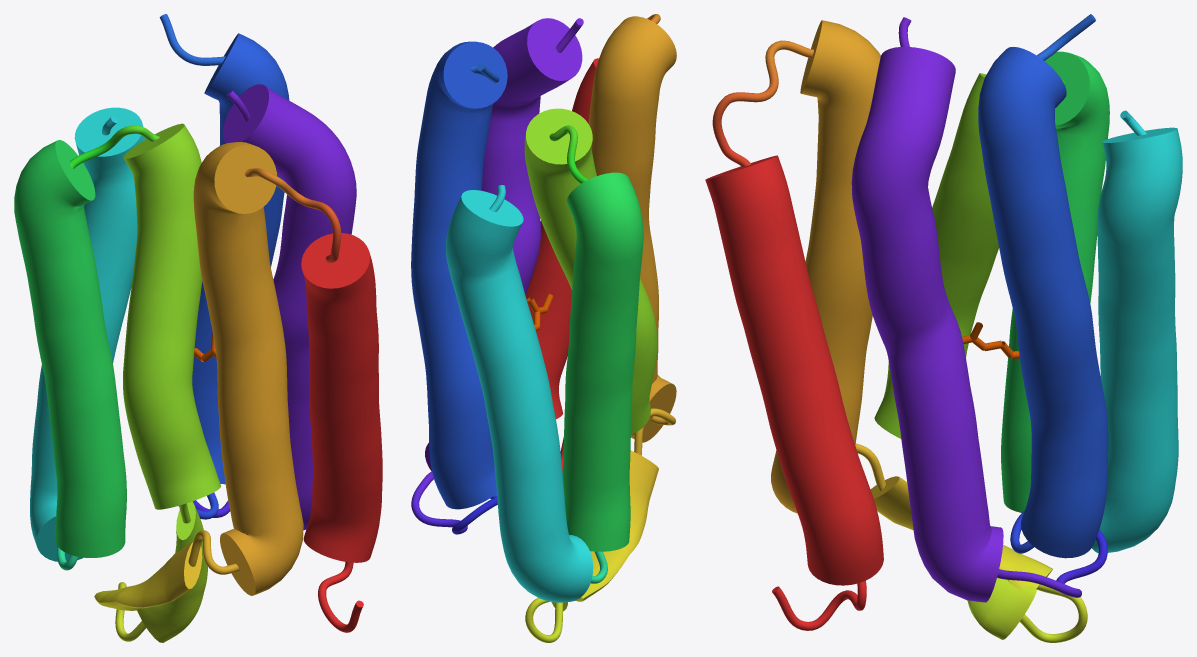
Rendered from bacteriorhodopsin.glb.
The picture shows the model from 3 angles, left to right: view 1: azimuth 30°, elevation 25°; view 2: azimuth 150°, elevation 25°; view 3: azimuth 270°, elevation 25°; orthographic projection. The views are drawn at different scales.
Parts seen in each view (by area): view 1: bR_1C3W; view 2: bR_1C3W; view 3: bR_1C3W.
Boxes of the visible parts, x1,y1,x2,y2 form: bR_1C3W: (14,14,382,642); bR_1C3W: (411,14,676,642); bR_1C3W: (705,14,1182,642).
Bounding box in the file's own units: 0.2544 × 0.5643 × 0.3706.
